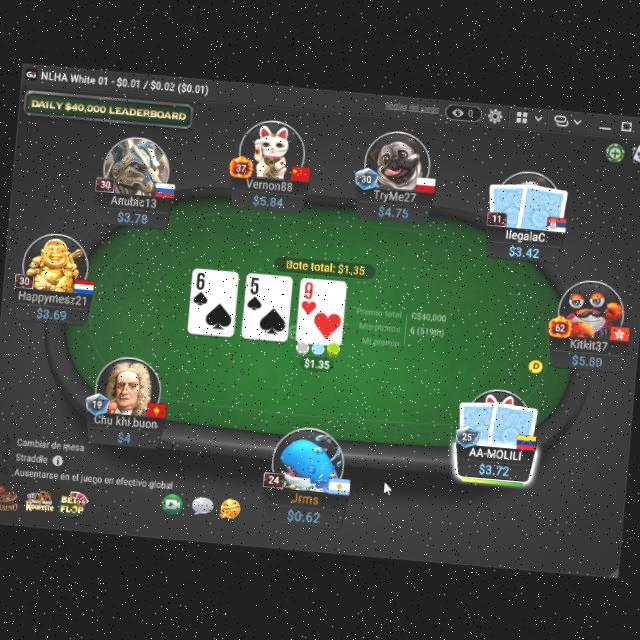5s: (244, 274, 264, 310)
6s: (191, 270, 212, 308)
9h: (300, 279, 318, 315)
bet_text: (302, 354, 332, 370)
card_back: (484, 396, 540, 450), (516, 178, 570, 232), (484, 176, 532, 228), (454, 394, 500, 446)
dealer: (524, 353, 546, 373)
pot_text: (285, 256, 367, 276)
stack_text: (284, 504, 322, 524), (506, 239, 542, 258), (115, 204, 148, 223), (252, 190, 286, 208), (570, 348, 604, 366), (376, 200, 410, 218), (477, 458, 511, 475), (34, 302, 68, 319), (116, 426, 132, 442)
